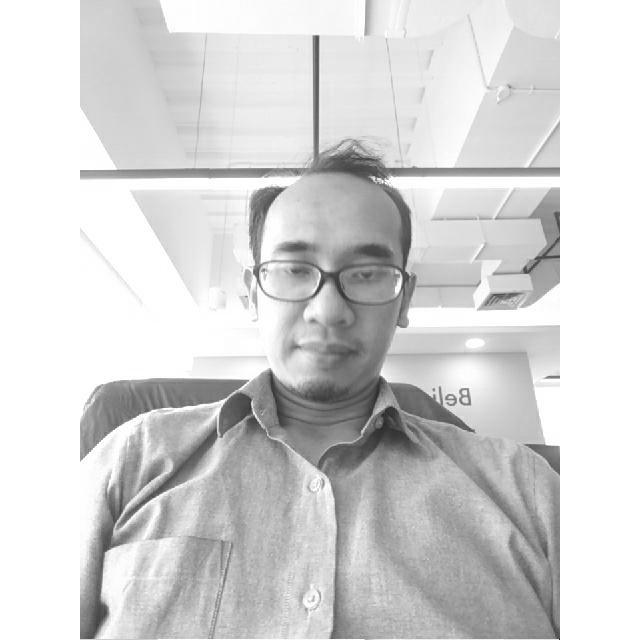real: (253, 177, 404, 395)
